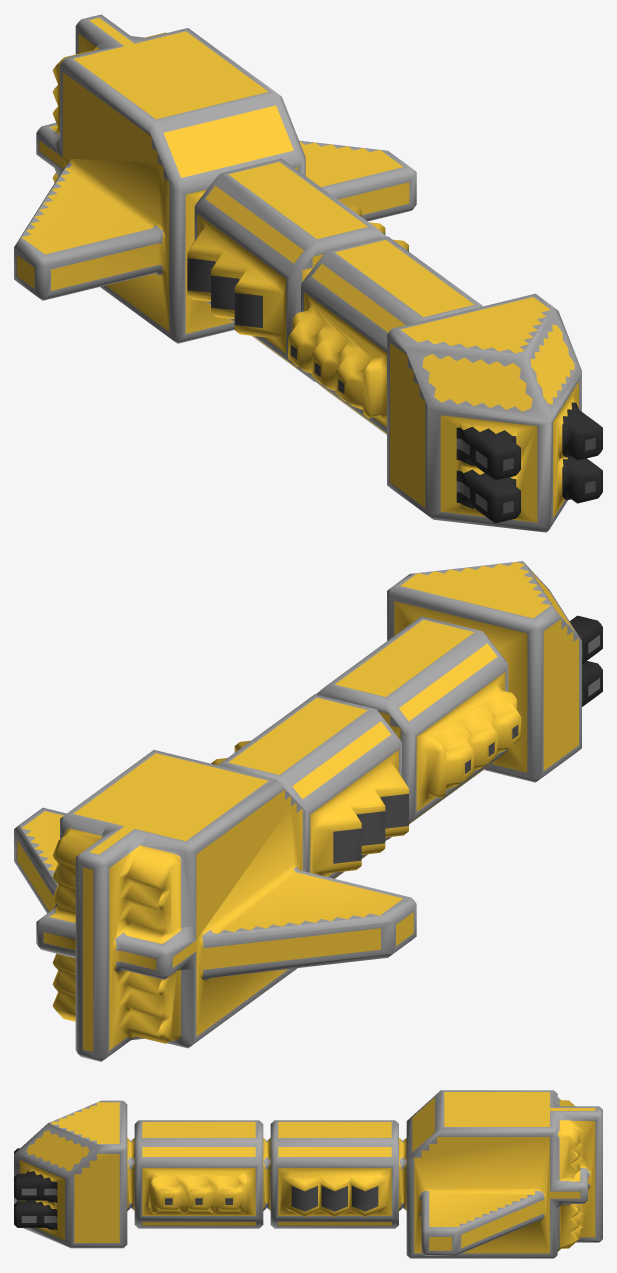
Rendered from mechyrdia-3-kozachnia-class.obj.
3 views of the same model, one above another, from view 1: azimuth 30°, elevation 25°; view 2: azimuth 150°, elevation 25°; view 3: azimuth 270°, elevation 25° (orthographic). The views are drawn at different scales.
Size of the model in its own units: 37 by 19 by 78.
Materials: 1 (1 with a texture image).
